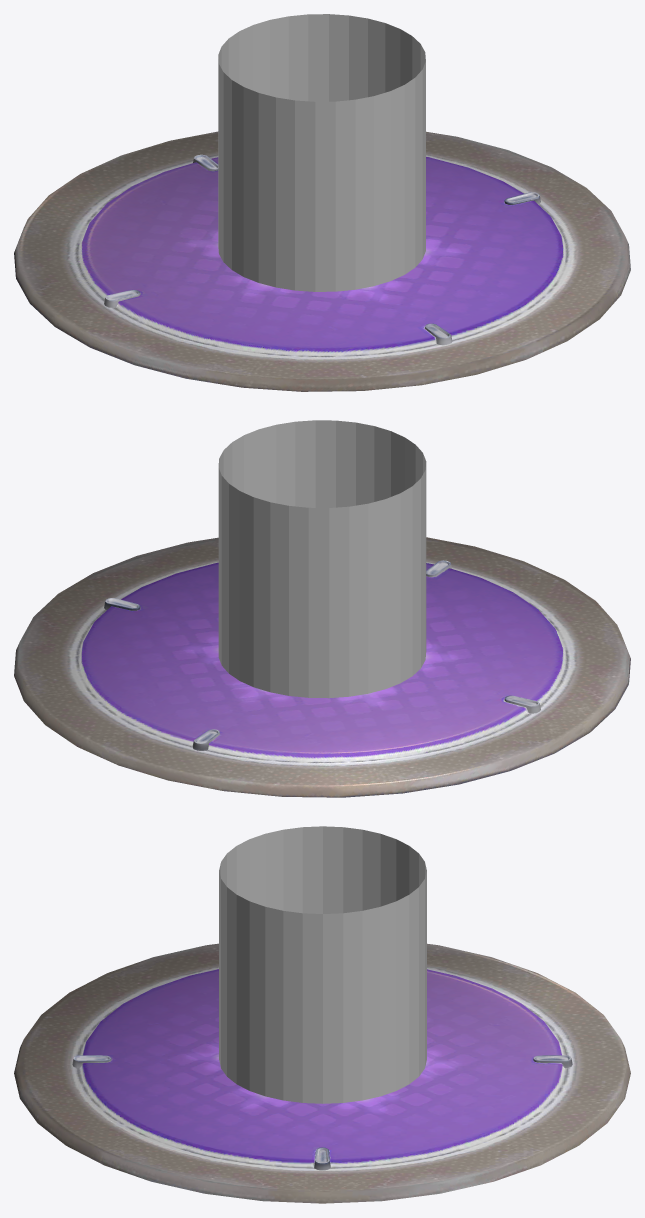
Rendered from pref_TPC_v2_NeutralScoreArea03_winter_purple_born_lv1.fbx.
3 views of the same model, one above another, from view 1: azimuth 30°, elevation 25°; view 2: azimuth 150°, elevation 25°; view 3: azimuth 270°, elevation 25° (orthographic).
Visible parts, largest first — view 1: sm_prop_platform06a_lv1, sm_fx_scorearea03_mesh_01_gp (1); view 2: sm_prop_platform06a_lv1, sm_fx_scorearea03_mesh_01_gp (1); view 3: sm_prop_platform06a_lv1, sm_fx_scorearea03_mesh_01_gp (1).
Part boxes in pixels (x1,y1,x2,y2): sm_prop_platform06a_lv1: (14,131,630,391); sm_fx_scorearea03_mesh_01_gp (1): (218,14,425,291); sm_prop_platform06a_lv1: (14,537,630,797); sm_fx_scorearea03_mesh_01_gp (1): (218,420,426,698); sm_prop_platform06a_lv1: (14,943,630,1203); sm_fx_scorearea03_mesh_01_gp (1): (219,826,426,1103).
Bounding box in the file's own units: 7.46 × 3.07 × 7.46.
